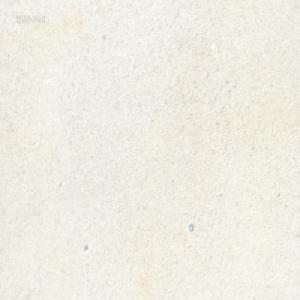Washer: (189, 222, 194, 231)
